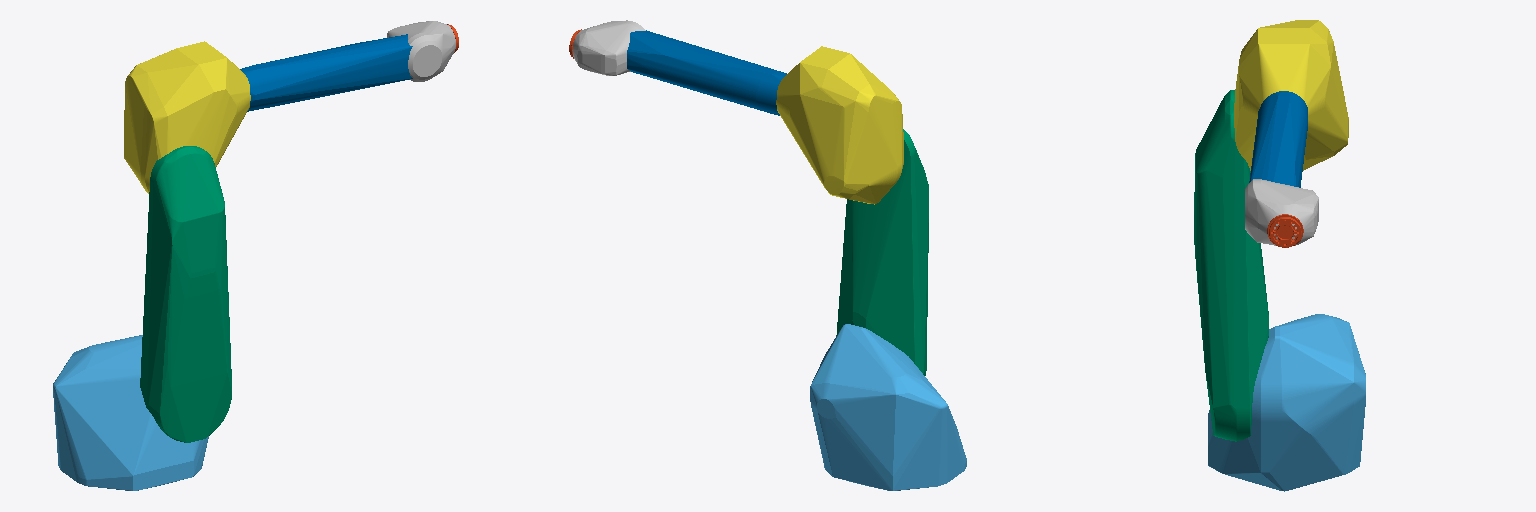
The robot description file, URDF, robot "motoman_mh50":
<?xml version="1.0" ?>
<!-- =================================================================================== -->
<!-- |    This document was autogenerated by xacro from mh50.xacro                     | -->
<!-- |    EDITING THIS FILE BY HAND IS NOT RECOMMENDED                                 | -->
<!-- =================================================================================== -->
<robot name="motoman_mh50" xmlns:xacro="http://ros.org/wiki/xacro">
  <!-- link list -->
  <link name="base_link">
    <visual>
      <origin rpy="0 0 0"/>
      <geometry>
        <mesh filename="package://motoman_mh50_support/meshes/mh50/visual/MH50_BASE_AXIS.dae"/>
      </geometry>
      <material name="blue">
        <color rgba="0.8 0.8 .8 1"/>
      </material>
    </visual>
    <collision>
      <origin rpy="0 0 0" xyz="-0.086 0 0.1295"/>
      <geometry>
        <box size="0.635 0.470 0.259"/>
      </geometry>
    </collision>
  </link>
  <link name="link_s">
    <visual>
      <geometry>
        <mesh filename="package://motoman_mh50_support/meshes/mh50/visual/MH50_S_AXIS.dae"/>
      </geometry>
    </visual>
    <collision>
      <geometry>
        <mesh filename="package://motoman_mh50_support/meshes/mh50/collision/MH50_S_AXIS.dae"/>
      </geometry>
    </collision>
  </link>
  <link name="link_l">
    <visual>
      <!-- <origin rpy="1.57 3.1416 0" xyz="0 0 0"/> -->
      <geometry>
        <mesh filename="package://motoman_mh50_support/meshes/mh50/visual/MH50_L_AXIS.dae"/>
      </geometry>
    </visual>
    <collision>
      <!-- <origin rpy="1.57 3.1416 0" xyz="0 0 0"/> -->
      <geometry>
        <mesh filename="package://motoman_mh50_support/meshes/mh50/collision/MH50_L_AXIS.dae"/>
      </geometry>
    </collision>
  </link>
  <link name="link_u">
    <visual>
      <!-- <origin rpy="1.57 -3.1415 0" xyz="0 0 0"/> -->
      <geometry>
        <mesh filename="package://motoman_mh50_support/meshes/mh50/visual/MH50_U_AXIS.dae"/>
      </geometry>
    </visual>
    <collision>
      <!-- <origin rpy="1.57 -3.1415 0" xyz="0 0 0"/> -->
      <geometry>
        <mesh filename="package://motoman_mh50_support/meshes/mh50/collision/MH50_U_AXIS.dae"/>
      </geometry>
    </collision>
  </link>
  <link name="link_r">
    <visual>
      <!-- <origin rpy="0 0 3.1416" xyz="0 0 0"/> -->
      <geometry>
        <mesh filename="package://motoman_mh50_support/meshes/mh50/visual/MH50_R_AXIS.dae"/>
      </geometry>
    </visual>
    <collision>
      <!-- <origin rpy="0 0 3.1416" xyz="0 0 0"/> -->
      <geometry>
        <mesh filename="package://motoman_mh50_support/meshes/mh50/collision/MH50_R_AXIS.dae"/>
      </geometry>
    </collision>
  </link>
  <link name="link_b">
    <visual>
      <!-- <origin rpy="-1.57 0 3.1416" xyz="0 0 0"/> -->
      <geometry>
        <mesh filename="package://motoman_mh50_support/meshes/mh50/visual/MH50_B_AXIS.dae"/>
      </geometry>
      <material name="blue"/>
    </visual>
    <collision>
      <!-- <origin rpy="-1.57 0 3.1416" xyz="0 0 0"/> -->
      <geometry>
        <mesh filename="package://motoman_mh50_support/meshes/mh50/collision/MH50_B_AXIS.dae"/>
      </geometry>
    </collision>
  </link>
  <link name="link_t">
    <visual>
      <geometry>
        <mesh filename="package://motoman_mh50_support/meshes/mh50/visual/MH50_T_AXIS.dae"/>
      </geometry>
    </visual>
    <collision>
      <geometry>
        <mesh filename="package://motoman_mh50_support/meshes/mh50/collision/MH50_T_AXIS.dae"/>
      </geometry>
      <material name="yellow"/>
    </collision>
  </link>
  <!-- end of link list -->
  <!-- joint list -->
  <joint name="joint_s" type="revolute">
    <parent link="base_link"/>
    <child link="link_s"/>
    <origin rpy="0 0 0" xyz="0 0 0.259"/>
    <axis xyz="0 0 1"/>
    <limit effort="100" lower="-3.14159" upper="3.14159" velocity="2.96"/>
  </joint>
  <joint name="joint_l" type="revolute">
    <parent link="link_s"/>
    <child link="link_l"/>
    <origin rpy="0 0 0" xyz="0.145 -0.1455 0.281"/>
    <axis xyz="0 1 0"/>
    <limit effort="100" lower="-1.5708" upper="2.35619" velocity="2.96"/>
  </joint>
  <joint name="joint_u" type="revolute">
    <parent link="link_l"/>
    <child link="link_u"/>
    <origin rpy="0 0 0" xyz="-0.0 -0.0095 0.870"/>
    <axis xyz="0 -1 0"/>
    <!-- Old limits: lower="-2.96706" upper="4.38078" 
                   The new limits below were measured from an MH50F.  They ensure 
 		   that link_r won't hit link_l even when joint_r is at 45 degrees.  
		   The old limits were converted directly from the MH50 data sheet,
		   which was clearly way off. -->
    <limit effort="100" lower="-1.55" upper="4.014" velocity="2.96"/>
  </joint>
  <joint name="joint_r" type="revolute">
    <parent link="link_u"/>
    <child link="link_r"/>
    <origin rpy="0 0 0" xyz="0.306 0.155 0.210"/>
    <axis xyz="-1 0 0"/>
    <limit effort="100" lower="-6.28319" upper="6.28319" velocity="3.48"/>
  </joint>
  <joint name="joint_b" type="revolute">
    <parent link="link_r"/>
    <child link="link_b"/>
    <origin rpy="0 0 0" xyz="0.7065 0 0"/>
    <axis xyz="0 -1 0"/>
    <limit effort="100" lower="-2.1817" upper="2.1817" velocity="3.48"/>
  </joint>
  <joint name="joint_t" type="revolute">
    <parent link="link_b"/>
    <child link="link_t"/>
    <origin rpy="0 0 0" xyz="0.1595 0 0"/>
    <axis xyz="-1 0 0"/>
    <limit effort="100" lower="-6.2831" upper="6.2831" velocity="6.97"/>
  </joint>
  <!-- end of joint list -->
  <!-- ROS-Industrial 'tool0' frame: all-zeros tool frame -->
  <link name="tool0"/>
  <joint name="link_6-tool0" type="fixed">
    <origin rpy="3.14159265359 -1.57079632679 0" xyz="0.0155 0 0"/>
    <parent link="link_t"/>
    <child link="tool0"/>
  </joint>
</robot>

--- Facts derived from the render (not from the file) ---
The picture shows the robot from 3 angles, left to right: view 1: azimuth 30°, elevation 25°; view 2: azimuth 150°, elevation 25°; view 3: azimuth 270°, elevation 25°; orthographic projection.
Robot: motoman_mh50 — 8 links, 7 joints (6 revolute, 1 fixed); root link base_link; default pose: every joint at zero.
Links seen in each view (by area): view 1: link_l, link_s, link_u, link_r, link_b; view 2: link_s, link_u, link_l, link_r, link_b; view 3: link_s, link_l, link_u, link_r, link_b, link_t.
Link boxes in pixels (<box>): link_l: <box>140,146,231,442</box>; link_s: <box>53,335,208,490</box>; link_u: <box>124,41,250,193</box>; link_r: <box>240,34,412,111</box>; link_b: <box>387,21,455,81</box>; link_s: <box>810,324,966,490</box>; link_u: <box>776,46,903,204</box>; link_l: <box>836,129,928,375</box>; link_r: <box>627,30,786,115</box>; link_b: <box>572,20,645,75</box>; link_s: <box>1208,314,1365,491</box>; link_l: <box>1194,90,1268,441</box>; link_u: <box>1234,20,1348,170</box>; link_r: <box>1249,91,1307,187</box>; link_b: <box>1245,179,1318,245</box>; link_t: <box>1267,214,1303,247</box>.
Size in the robot's own frame: 1.6 by 0.5305 by 1.58 metres.
Meshes: 7 distinct files referenced, 6 mesh visuals loaded (6 Collada DAE); not drawn: 1 (reference not matched to a file when rendering).
